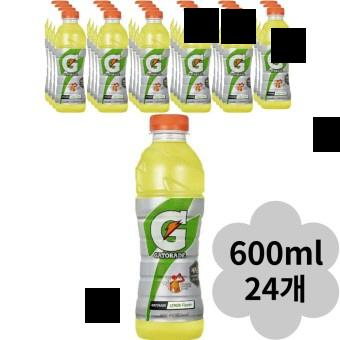gatorade_lemon: (132, 112, 209, 339), (98, 11, 129, 112), (225, 9, 254, 111), (58, 9, 86, 113), (184, 9, 211, 114), (142, 11, 170, 111), (265, 8, 292, 108)
